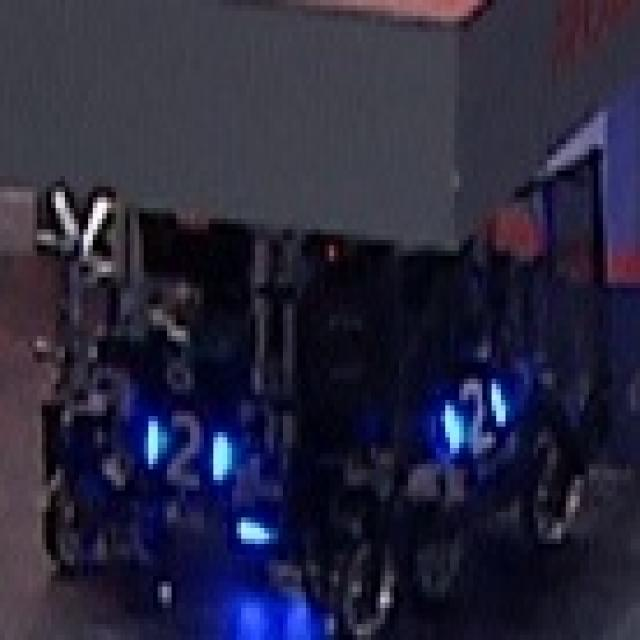B2: (139, 405, 232, 491), (440, 368, 506, 453)
